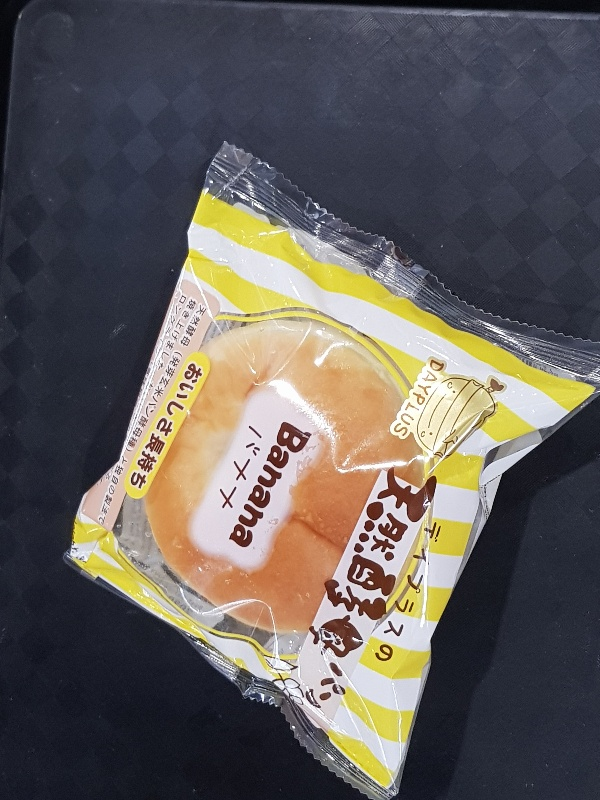Dayplus Banana: (62, 137, 598, 800)
